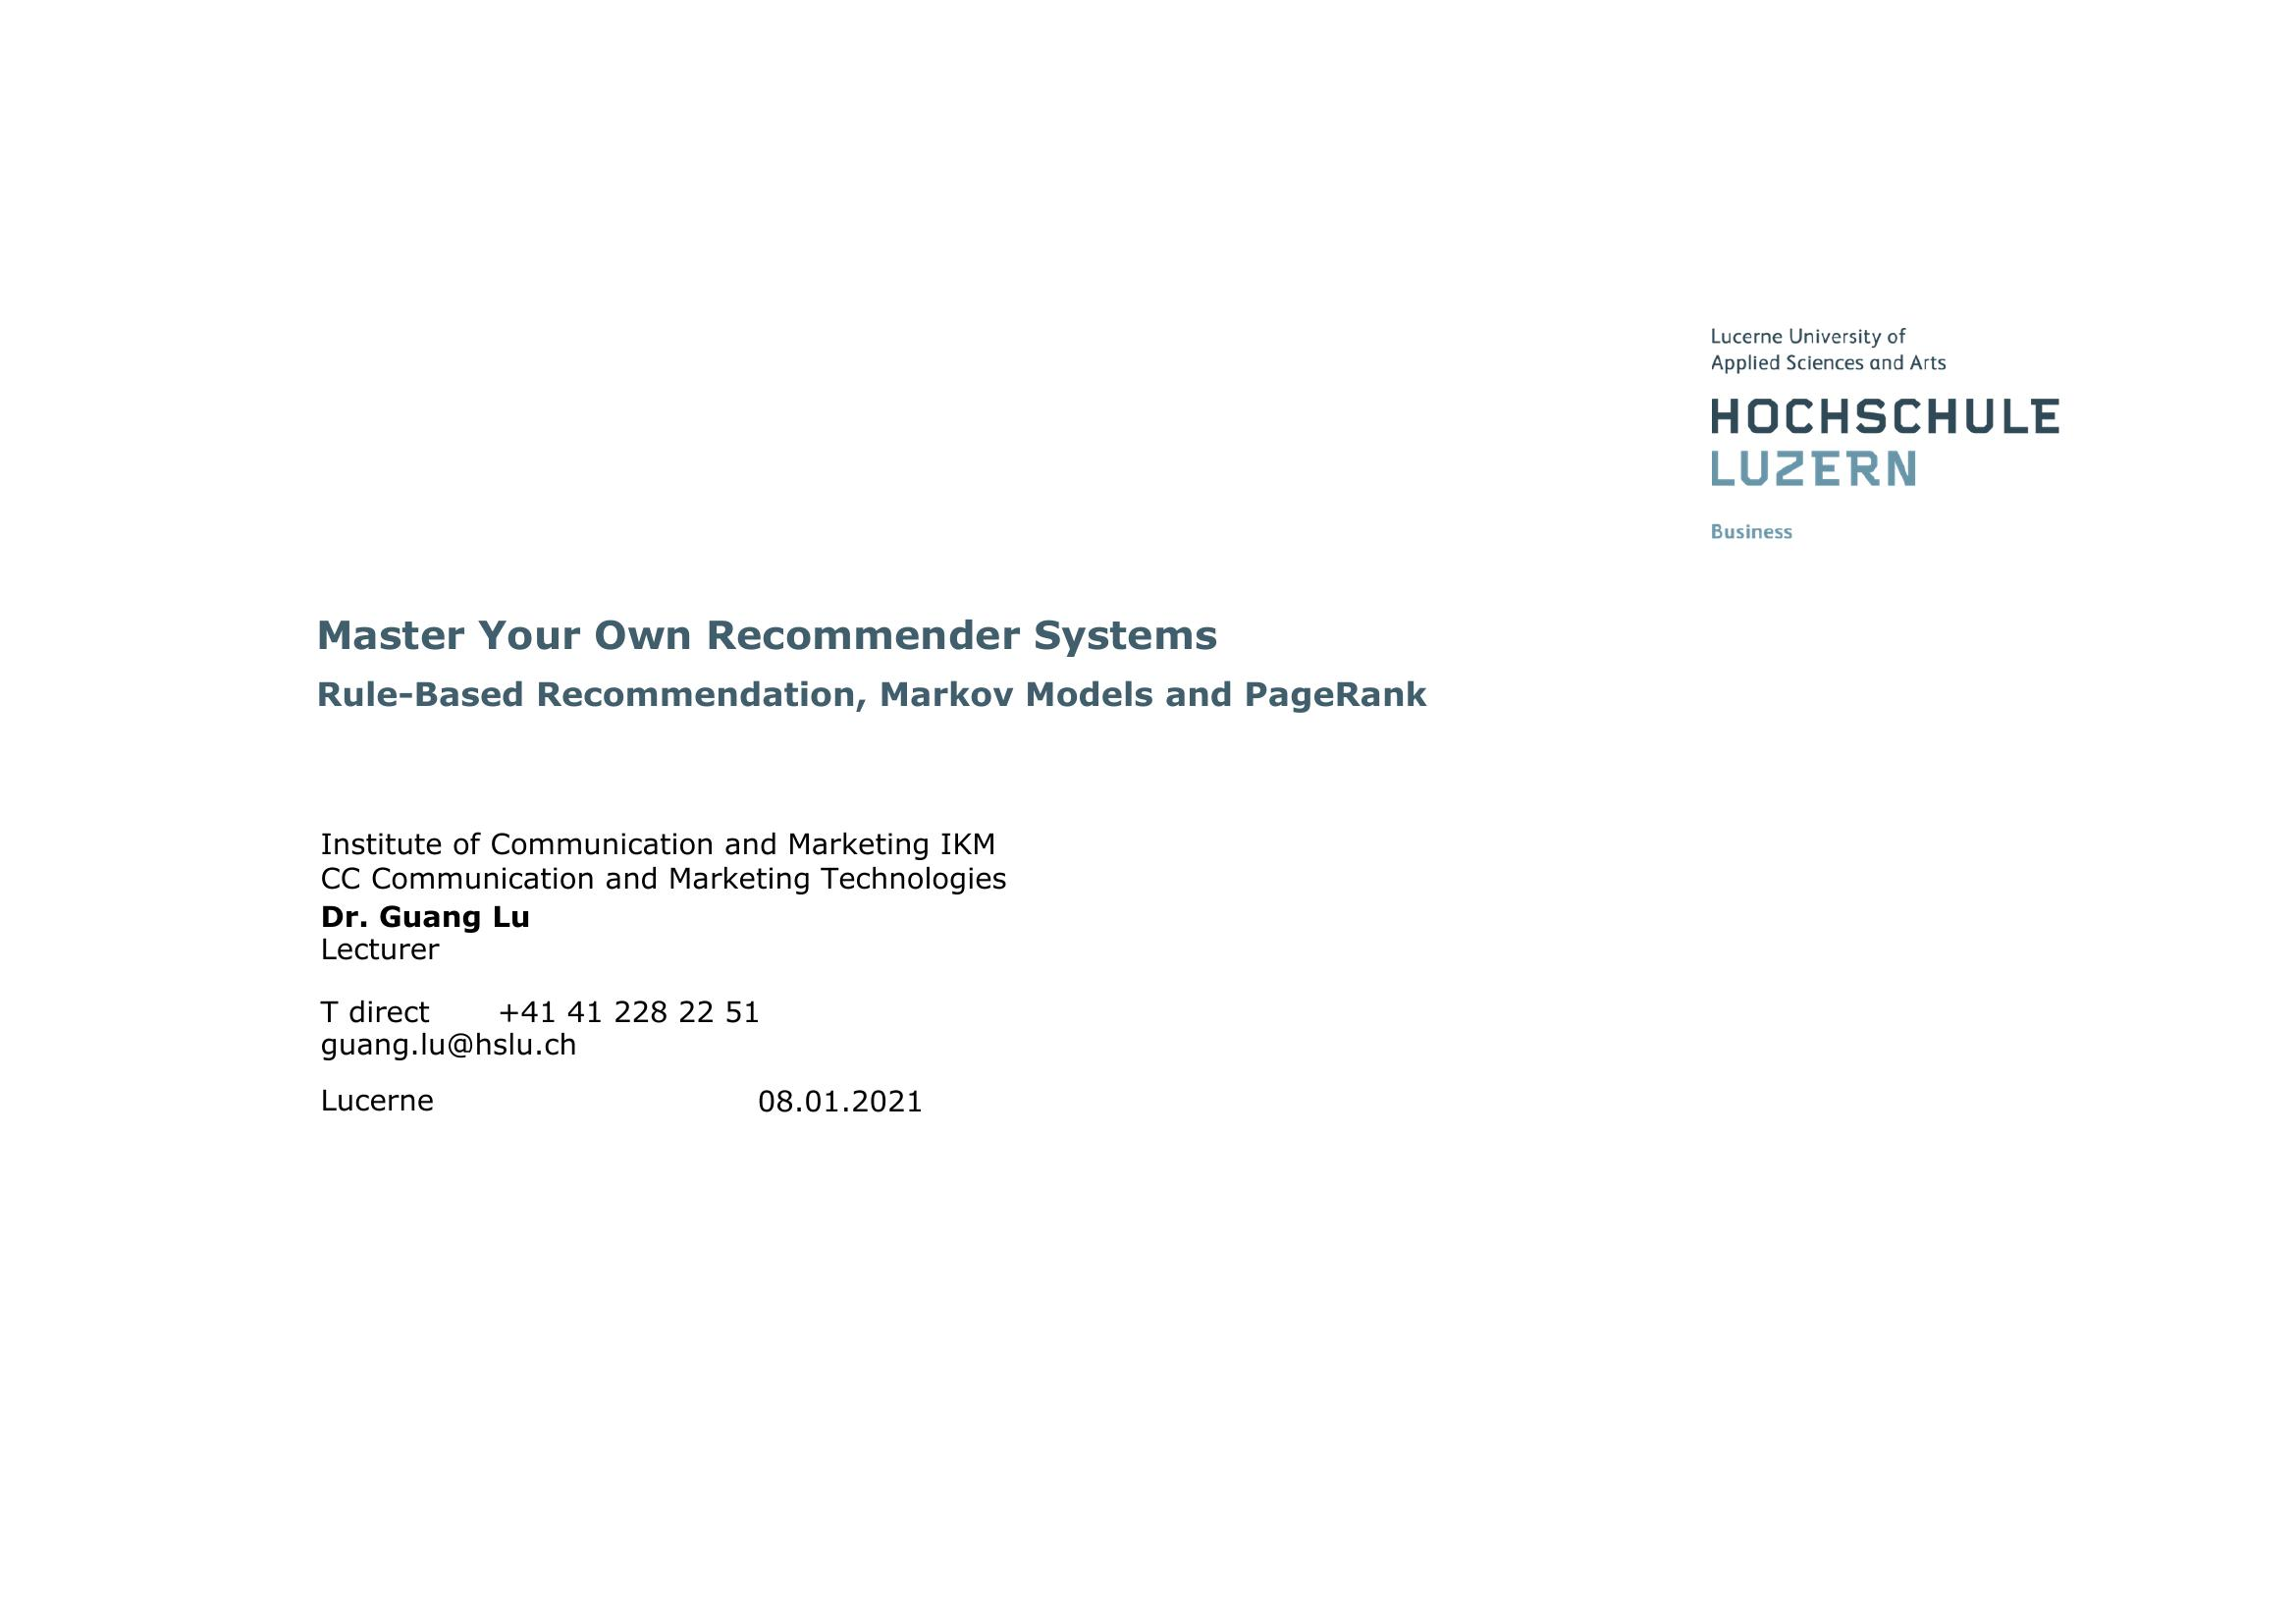Title: (299, 599, 1230, 664)
